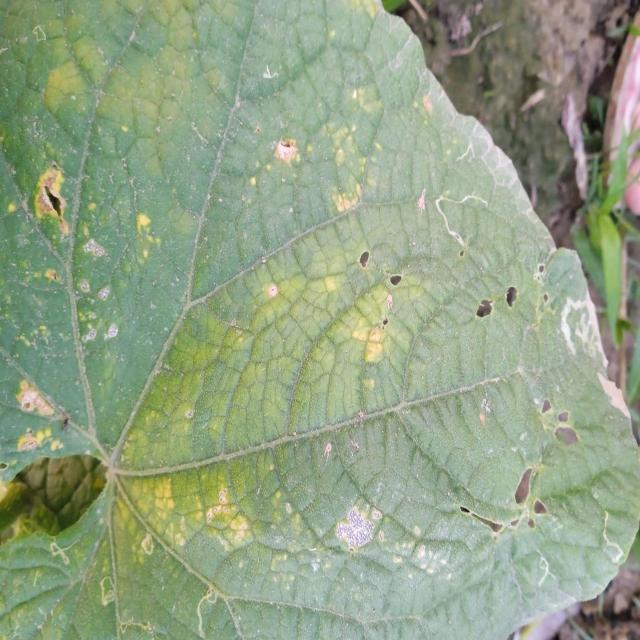cucumber_downy: (0, 72, 530, 603)
